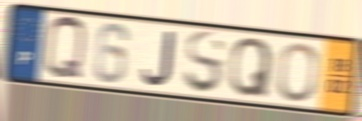6: (92, 21, 130, 86)
J: (140, 30, 176, 88)
O: (275, 41, 321, 104)
Q: (41, 14, 89, 83), (227, 36, 275, 100)
S: (182, 29, 228, 97)
